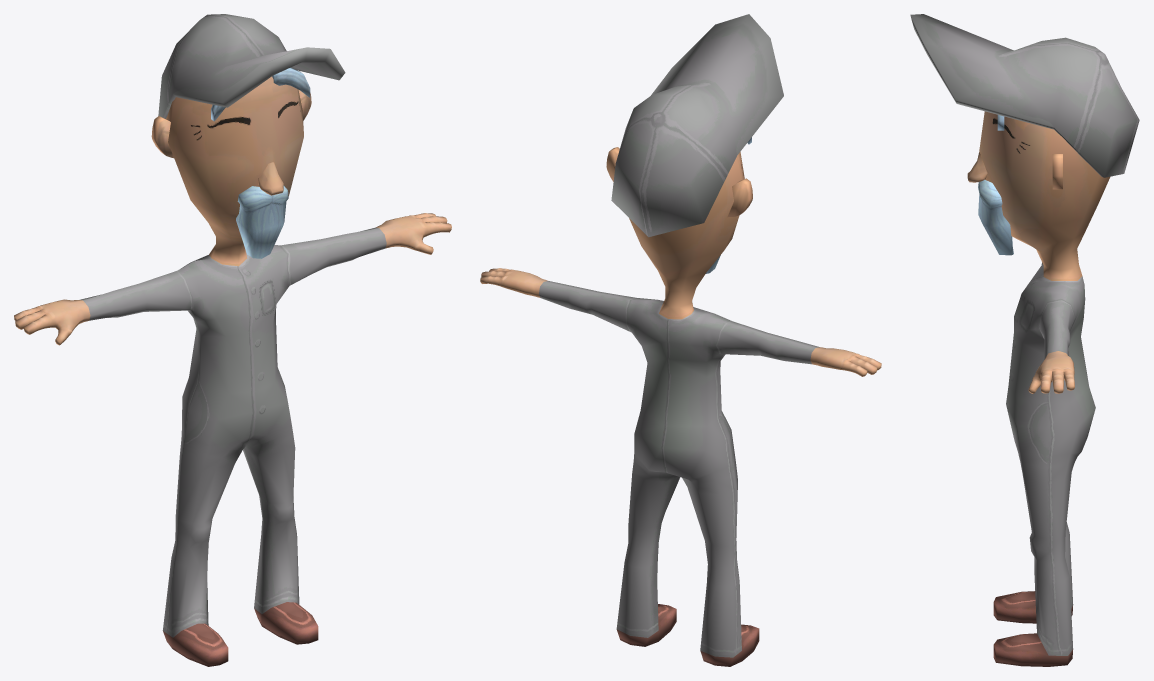
File: janitorFBX.fbx
The picture shows the model from 3 angles, left to right: view 1: azimuth 30°, elevation 25°; view 2: azimuth 150°, elevation 25°; view 3: azimuth 270°, elevation 25°; orthographic projection. The views are drawn at different scales.
Visible parts, largest first — view 1: node_id41; view 2: node_id41; view 3: node_id41.
Part boxes in pixels (bbox=[...]): node_id41: bbox=[14, 14, 451, 666]; node_id41: bbox=[480, 14, 881, 666]; node_id41: bbox=[910, 14, 1139, 666].
Bounding box in the file's own units: 0.3594 × 0.5094 × 0.1702.
1 material, 1 textured.
